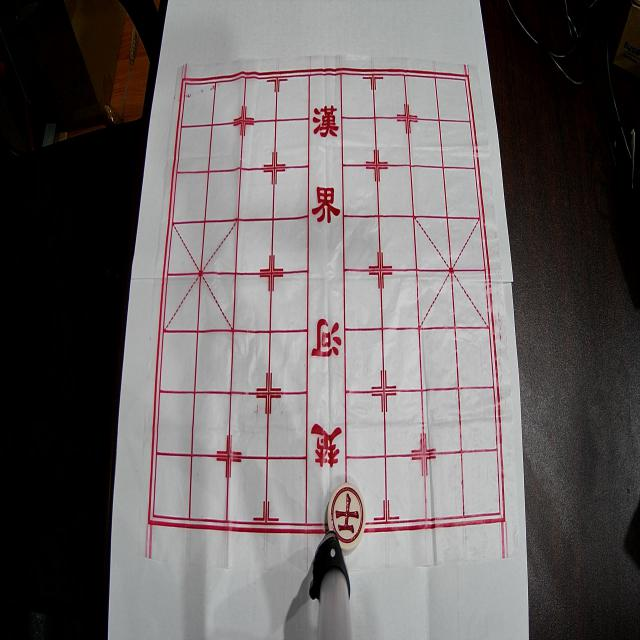red-guard: (328, 482, 367, 550)
